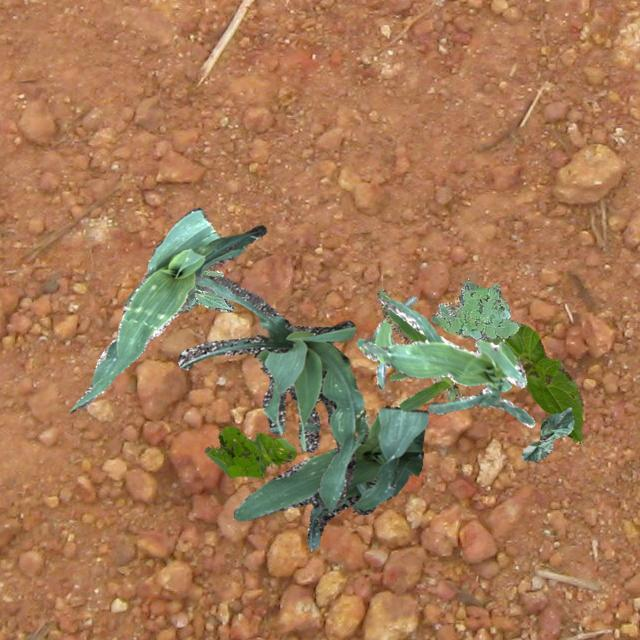crop: (176, 274, 366, 511), (70, 208, 264, 412), (233, 404, 427, 550), (361, 294, 534, 426), (356, 296, 510, 390), (483, 322, 583, 442), (376, 288, 461, 410), (520, 406, 572, 461), (182, 268, 232, 312)
weed: (429, 278, 518, 339), (204, 424, 296, 476)
